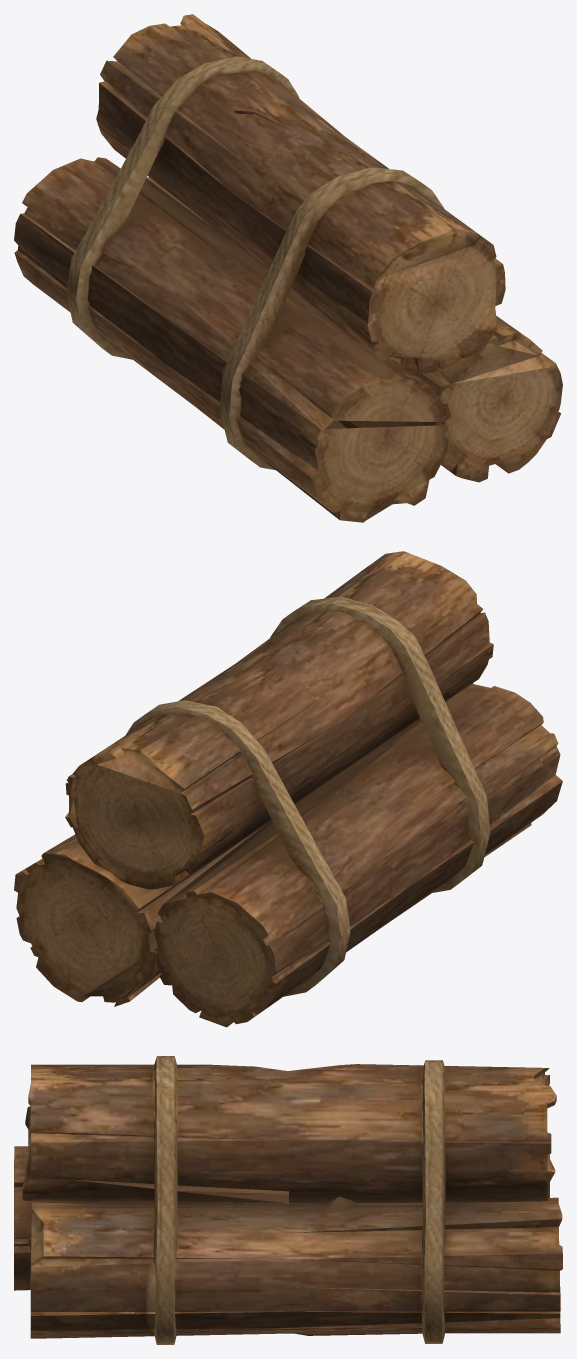
File: timber.glb
The picture shows the model from 3 angles, top to bottom: view 1: azimuth 30°, elevation 25°; view 2: azimuth 150°, elevation 25°; view 3: azimuth 270°, elevation 25°; orthographic projection. The views are drawn at different scales.
Parts seen in each view (by area): view 1: tripo_node_afad7738-7d3f-4281-aaca-8318d9a5538f; view 2: tripo_node_afad7738-7d3f-4281-aaca-8318d9a5538f; view 3: tripo_node_afad7738-7d3f-4281-aaca-8318d9a5538f.
Part boxes in pixels (x1,y1,x2,y2): tripo_node_afad7738-7d3f-4281-aaca-8318d9a5538f: (14, 14, 562, 522); tripo_node_afad7738-7d3f-4281-aaca-8318d9a5538f: (14, 551, 562, 1027); tripo_node_afad7738-7d3f-4281-aaca-8318d9a5538f: (14, 1056, 562, 1344).
Bounding box in the file's own units: 0.5203 × 0.5047 × 1.
1 material, 1 textured.
